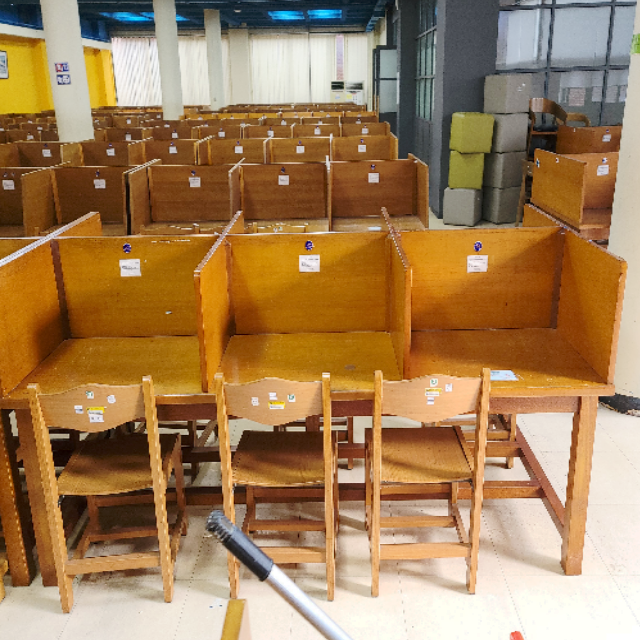empty: (1, 208, 206, 480), (416, 207, 611, 483), (212, 221, 410, 490)
